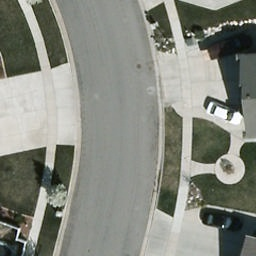car: (206, 101, 244, 126), (199, 212, 243, 232)
